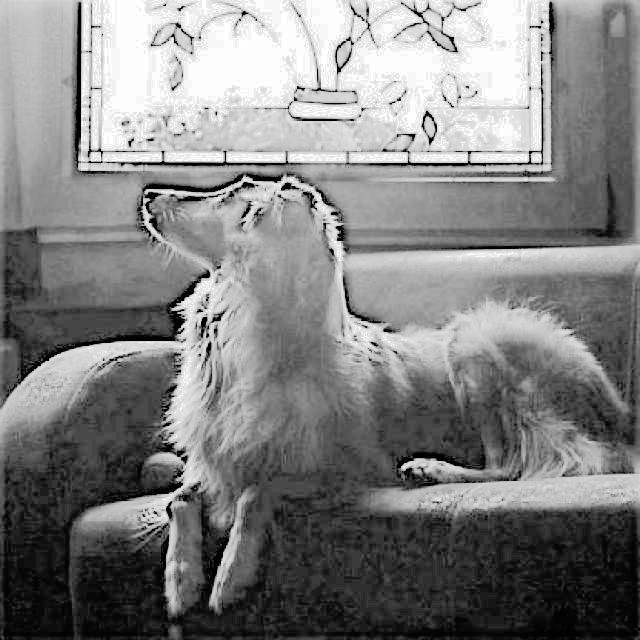Dog: (135, 170, 640, 615)
